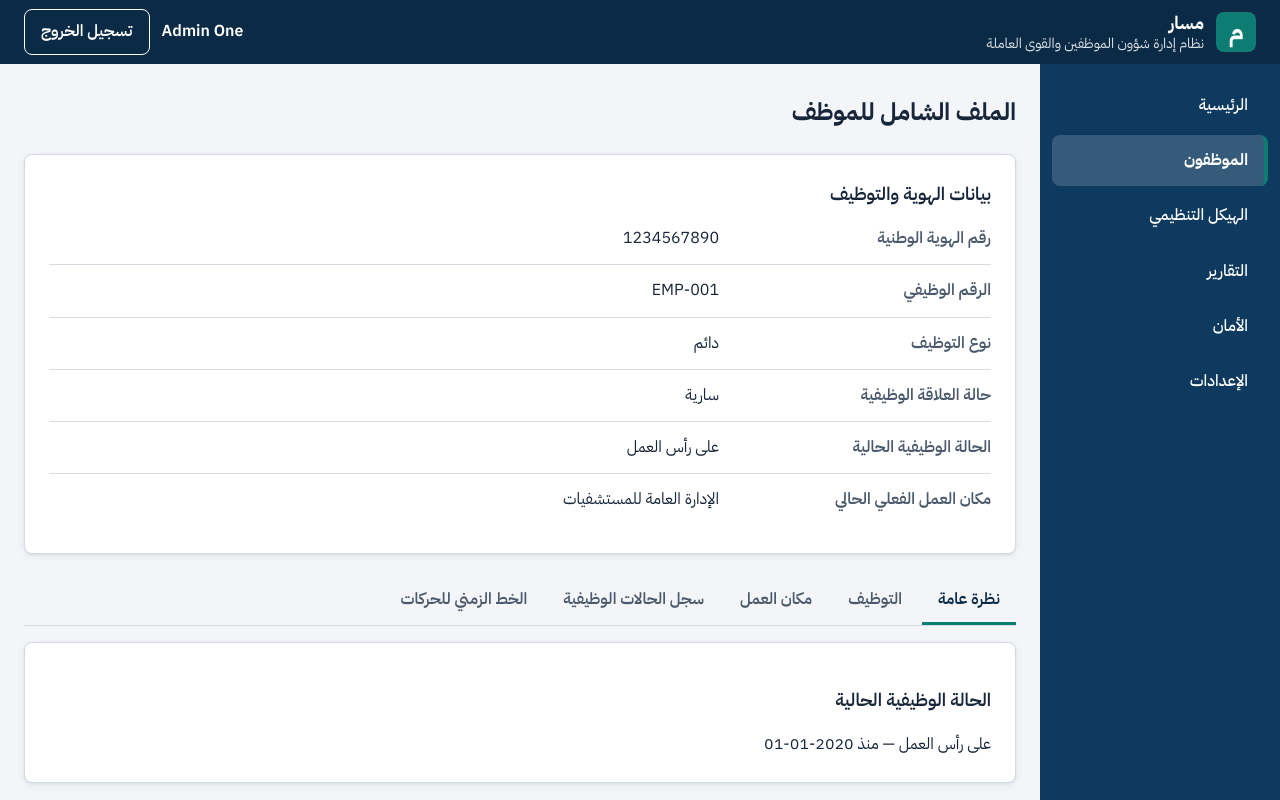
Scenario: Employee360Page › switches to the Status History tab and lists the status periods
This screenshot has width=1280, height=800.
Expected: the heading "الملف الشامل للموظف" is shown, [792, 94, 1016, 130]
Click the tab "سجل الحالات الوظيفية": [634, 601] box [547, 578, 720, 624]
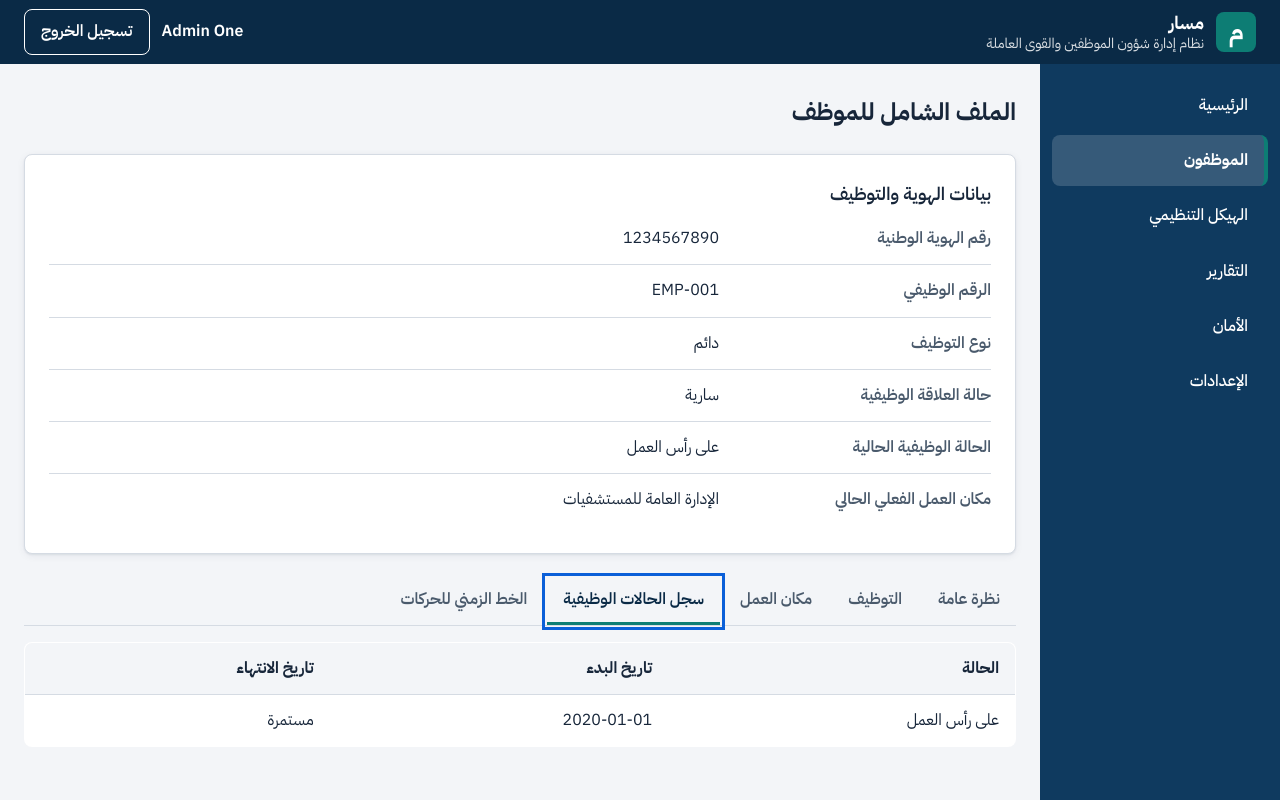
Expected: the text "على رأس العمل" is shown, [668, 695, 1016, 746]
Expected: the text "مستمرة" is shown, [24, 695, 330, 746]
